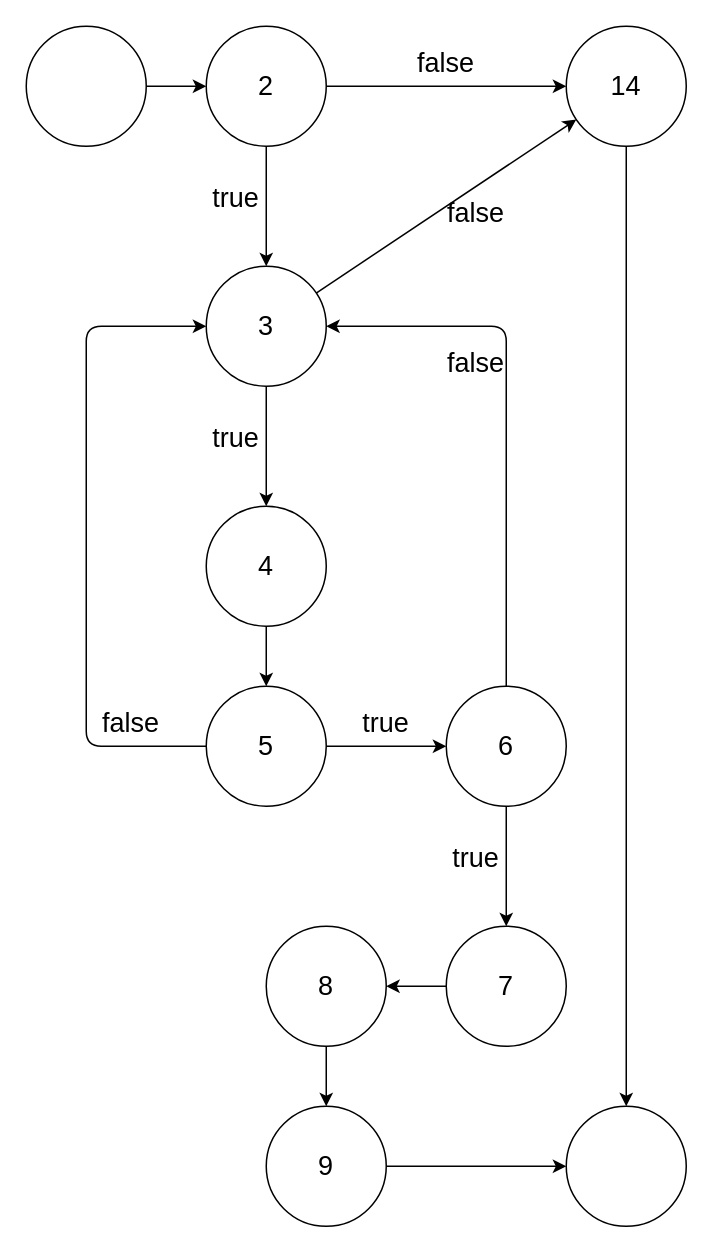
The diagram is 713 pixels wide and 1253 high, and some of its shapes have lost their labels. The shapes that lost their labels are listed below. From the top down, each one's box as (x1, y1, x2, y2) in pixels, then its label:
(25, 25, 146, 146): ni
(565, 1105, 686, 1226): nf
